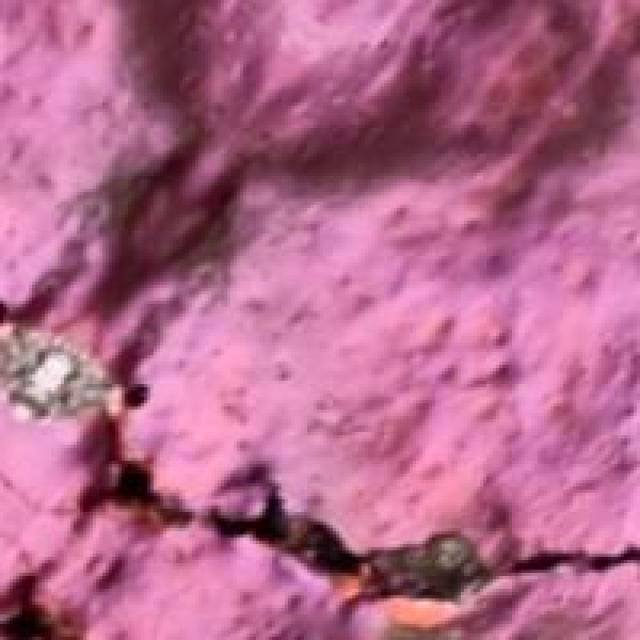SurfaceCrack: (100, 416, 640, 626)
